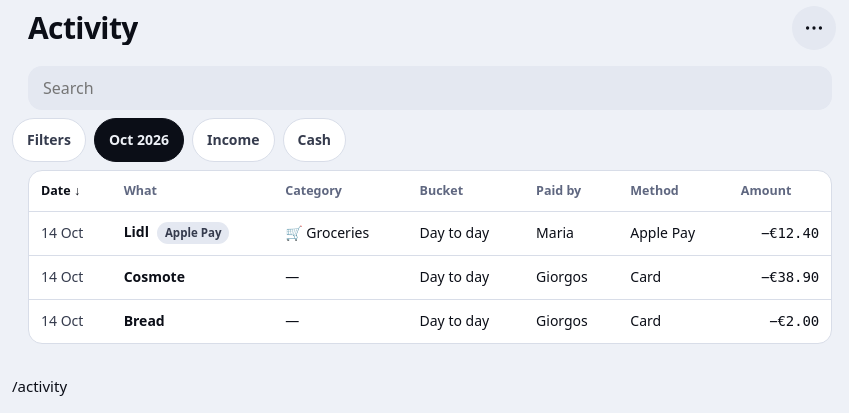
Test: Activity table › Date and Amount headers sort: aria-sort, ?sort= and the request
Click the button "Date" at point(61, 191), box [33,175,88,207]
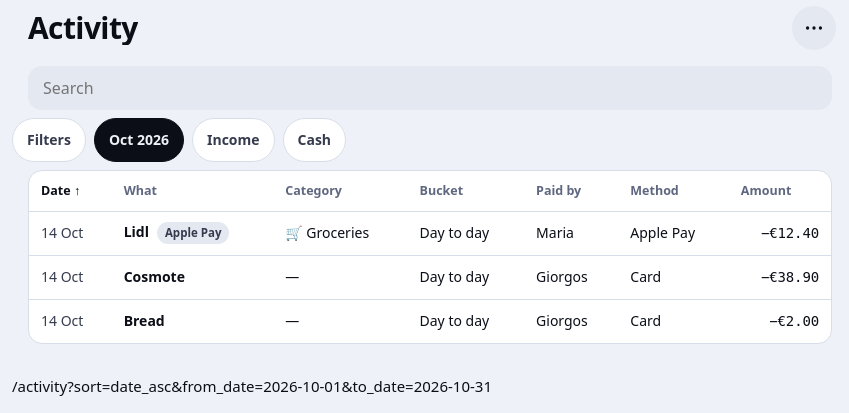
Check: the text with test id "location" shows "sort=date_asc", box [12,376,492,396]
Click the button "Amount" at point(766, 191), box [733,175,799,207]
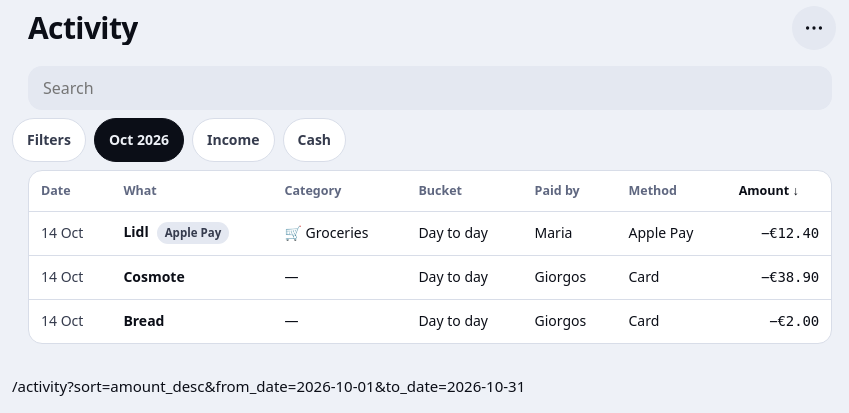
Check: the text with test id "location" shows "sort=amount_desc", box [12,376,525,396]
Click the button "Amount" at point(769, 191), box [731,175,807,207]
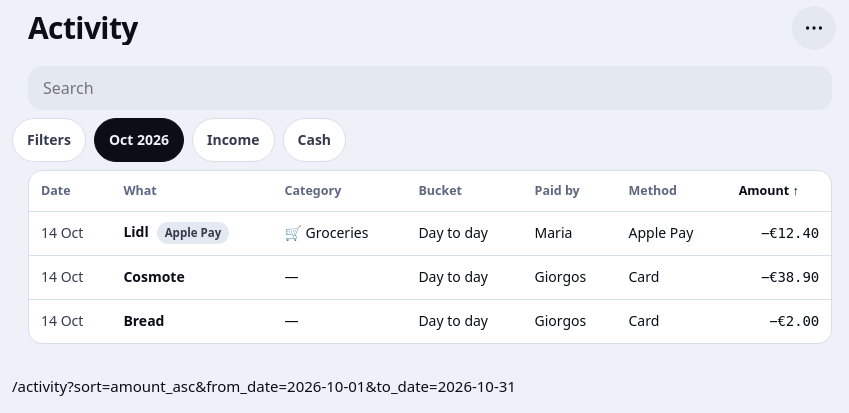
Check: the text with test id "location" shows "sort=amount_asc", box [12,376,516,396]
Click the button "Date" at point(56, 191), box [33,175,79,207]
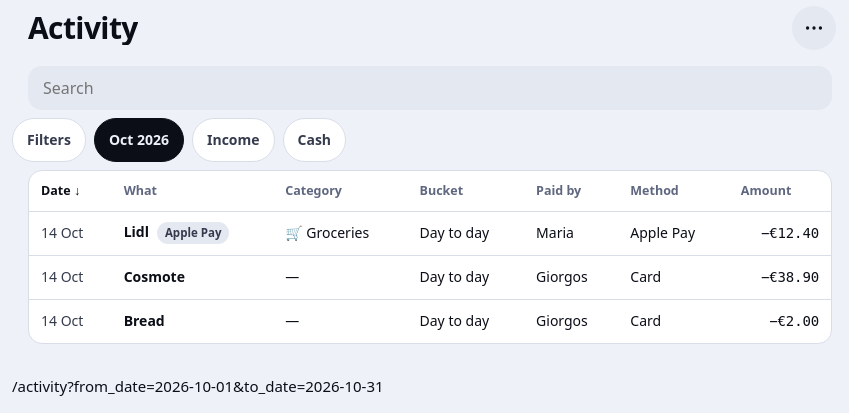
Check: the text with test id "location" no longer shows "sort="
